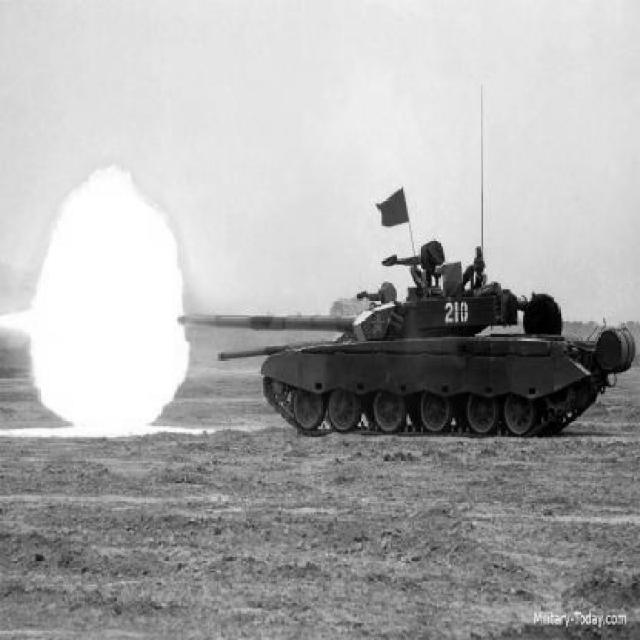Tank: (177, 238, 637, 438)
